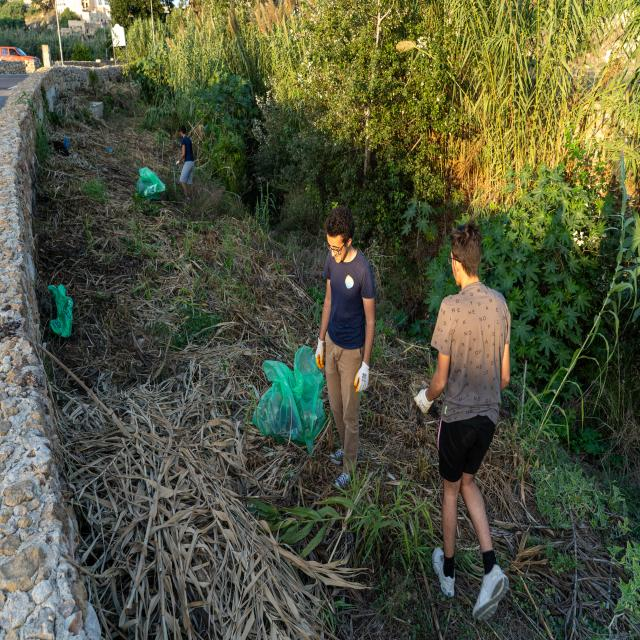Other plastic: (175, 165, 179, 170), (135, 132, 137, 134), (79, 153, 80, 155)
Plastic bag - wrapper: (252, 345, 326, 455), (47, 285, 75, 339), (136, 167, 166, 201), (64, 137, 70, 150), (104, 147, 114, 153), (87, 152, 94, 155)
